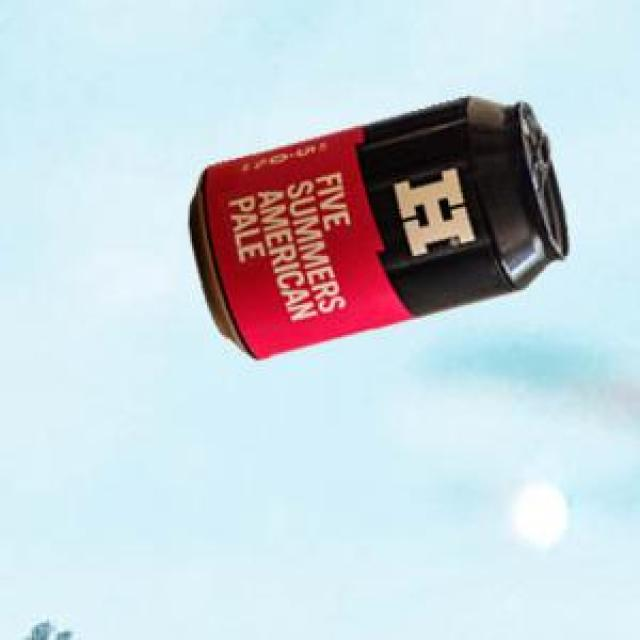logam: (187, 93, 564, 355)
